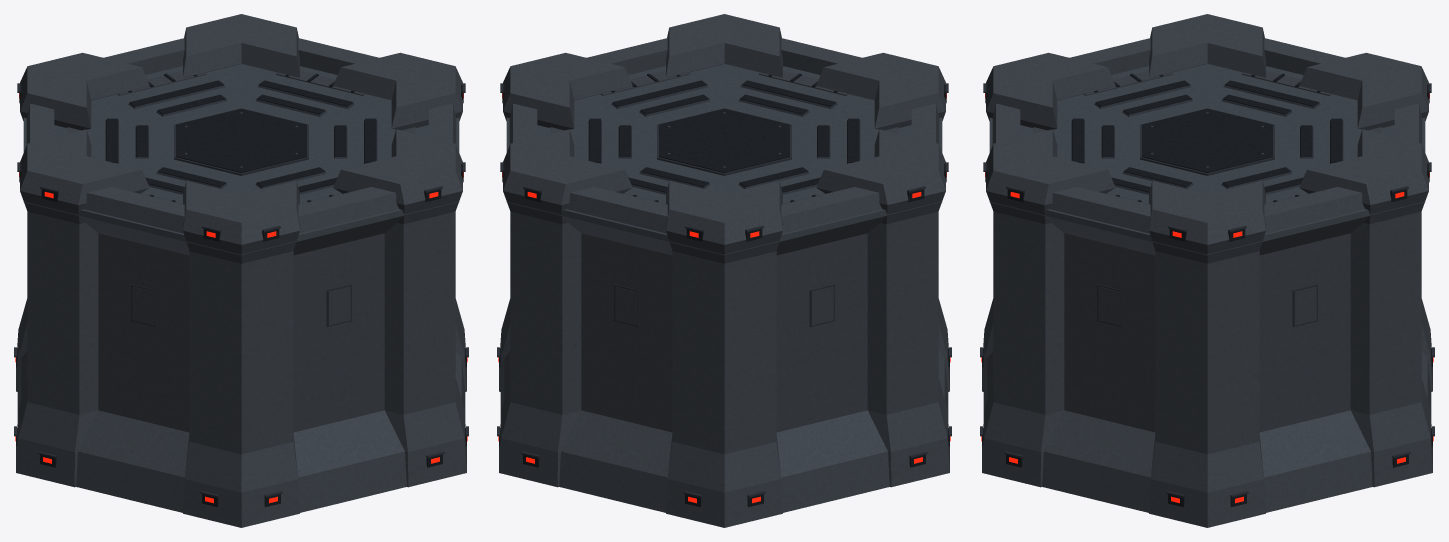
File: pier.glb
The picture shows the model from 3 angles, left to right: view 1: azimuth 30°, elevation 25°; view 2: azimuth 150°, elevation 25°; view 3: azimuth 270°, elevation 25°; orthographic projection.
Parts seen in each view (by area): view 1: pier-lod0-roof0, pier-lod0-base0, pier-lod0-floor0; view 2: pier-lod0-roof0, pier-lod0-base0, pier-lod0-floor0; view 3: pier-lod0-roof0, pier-lod0-base0, pier-lod0-floor0.
Part boxes in pixels (x1,y1,x2,y2): pier-lod0-roof0: [17, 14, 465, 277]; pier-lod0-base0: [14, 299, 468, 527]; pier-lod0-floor0: [27, 225, 455, 399]; pier-lod0-roof0: [500, 14, 948, 277]; pier-lod0-base0: [497, 299, 951, 527]; pier-lod0-floor0: [510, 225, 938, 399]; pier-lod0-roof0: [983, 14, 1431, 277]; pier-lod0-base0: [980, 299, 1434, 527]; pier-lod0-floor0: [993, 225, 1421, 399].
Size of what is drawn, in the model's own units: 69.28 by 44 by 60.56.
Materials: 6 (6 with a texture image).
